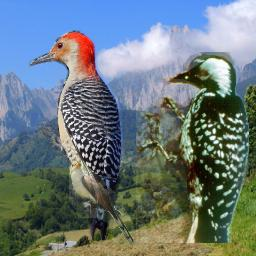Cuckoo: (69, 159, 136, 245)
Woodpecker: (136, 52, 249, 243), (29, 30, 123, 240)
